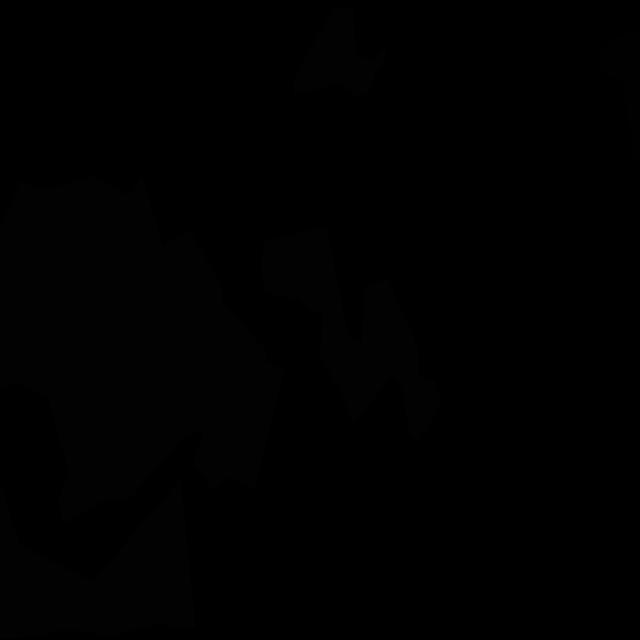cardboard: (0, 175, 284, 524), (261, 225, 442, 444), (0, 478, 196, 639), (293, 6, 386, 97)
rigid_plastic: (595, 29, 640, 169)
